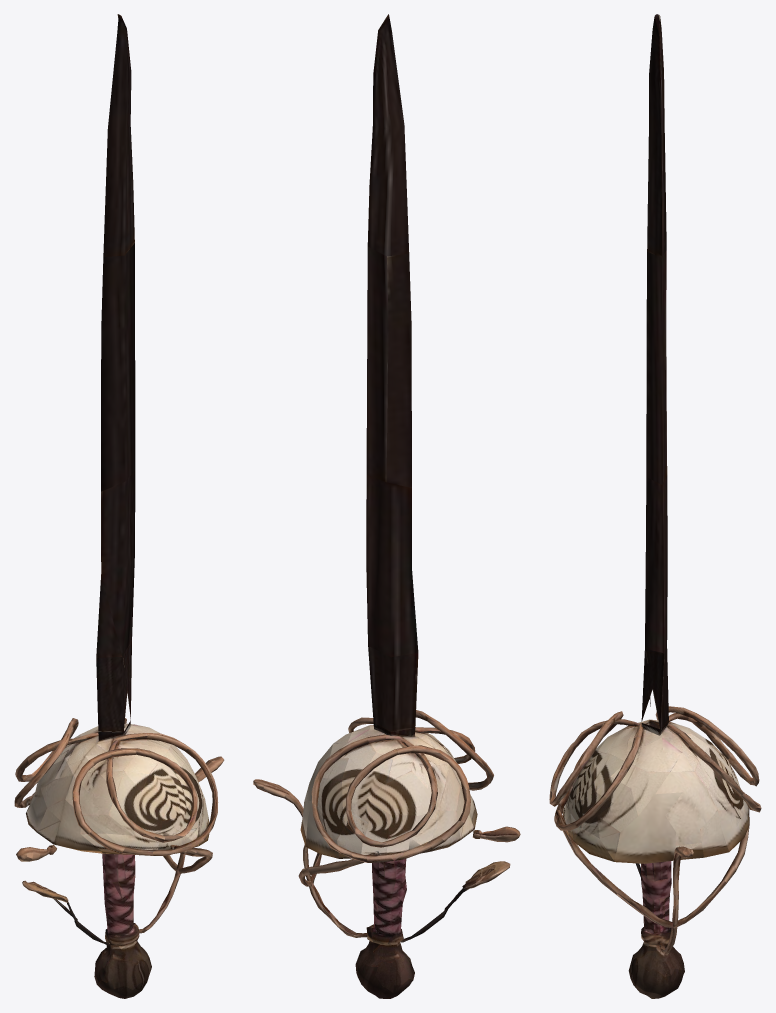
Rendered from 1243_rapier.glb.
The picture shows the model from 3 angles, left to right: view 1: azimuth 30°, elevation 25°; view 2: azimuth 150°, elevation 25°; view 3: azimuth 270°, elevation 25°; orthographic projection.
Visible parts, largest first — view 1: Model; view 2: Model; view 3: Model.
Boxes of the visible parts, box(x1,y1,x2,y2) form: Model: box(14, 14, 224, 998); Model: box(253, 14, 520, 998); Model: box(549, 14, 761, 998).
Size of the model in its own units: 0.2519 by 1 by 0.196.
Materials: 1 (1 with a texture image).
